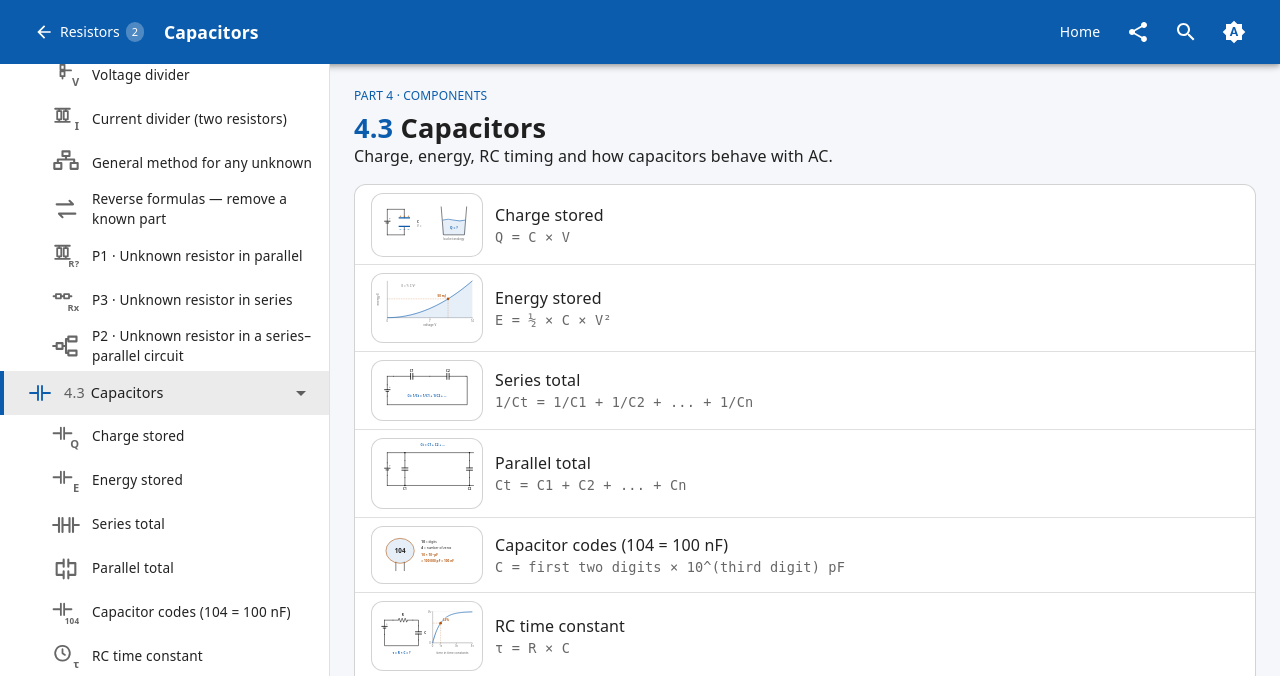
app bar › pressing Back does not re-add the page you left (no ping-pong)
(page scrolled)
Step 1. Click the button with test id "back-button" → click(90, 32), box left=24, top=10, right=156, bottom=54
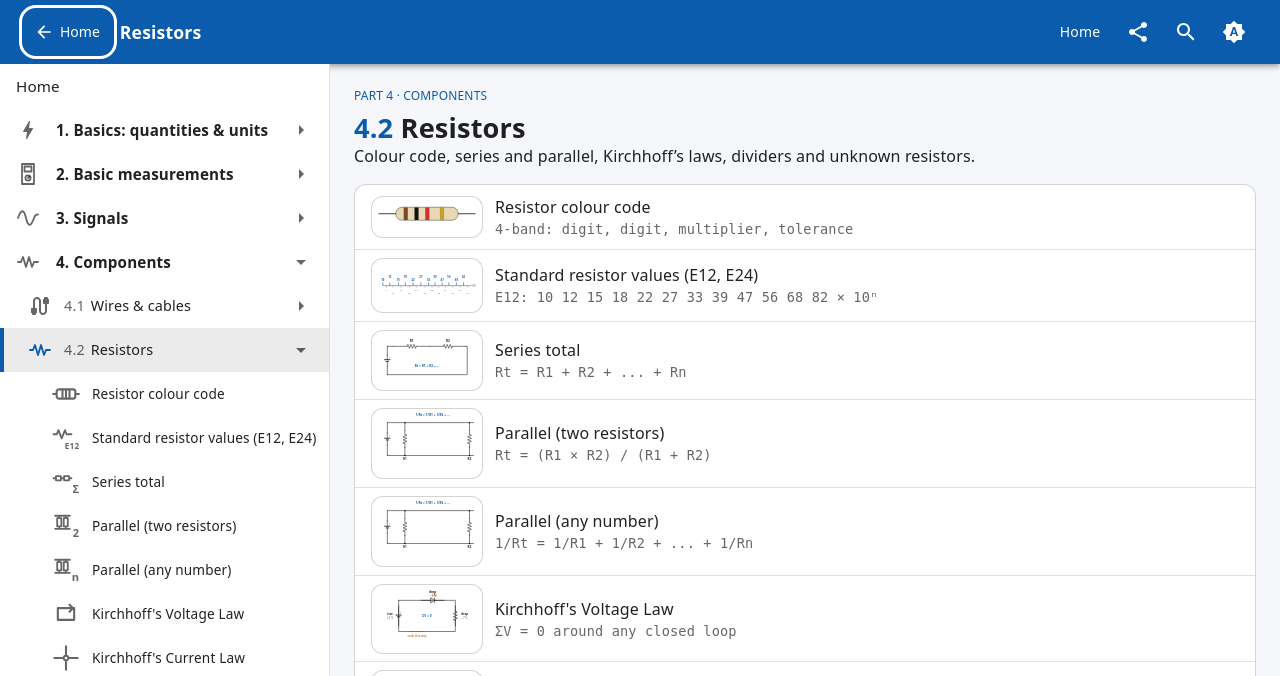
Step 2. Click the button with test id "back-button" → click(68, 32), box left=24, top=10, right=112, bottom=54
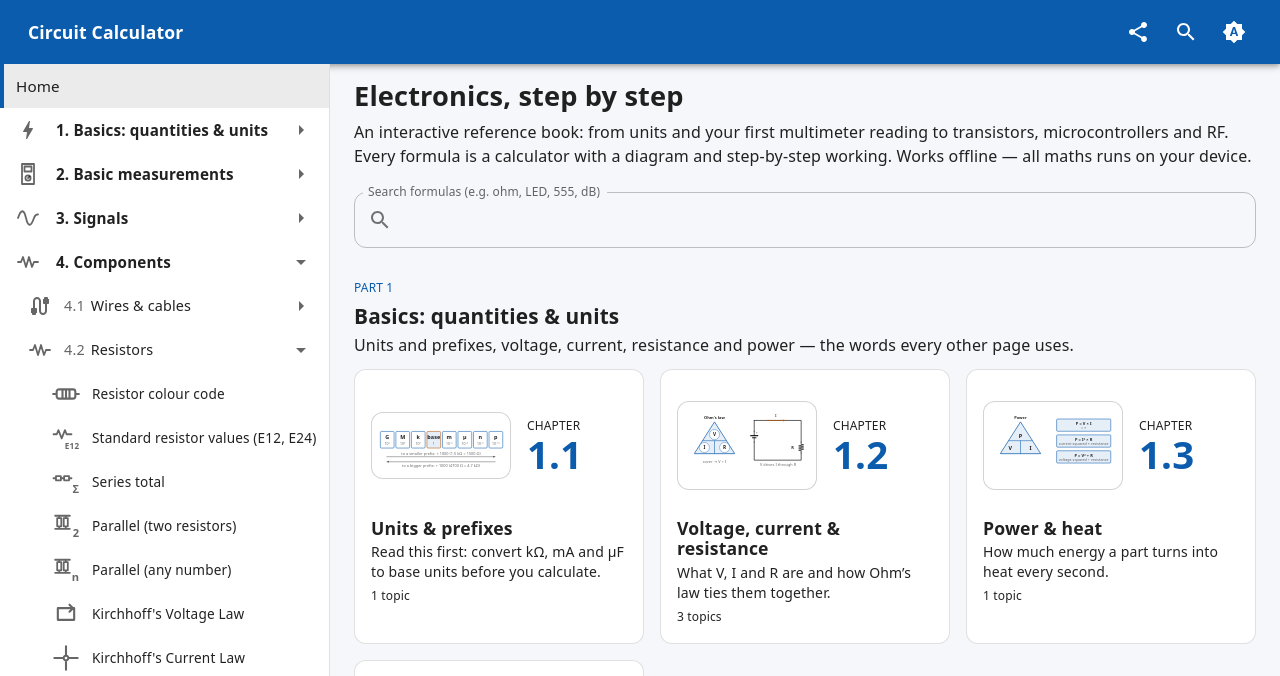
Now the heading "Electronics, step by step" is shown, box left=354, top=77, right=684, bottom=114
Now the button with test id "back-button" is gone
